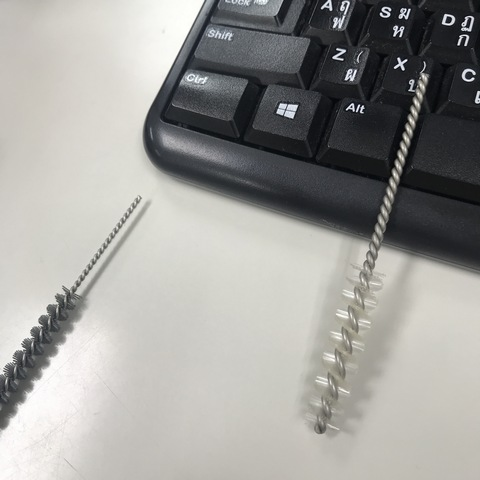Twist Brush-A: (1, 193, 150, 421)
Twist Brush-B: (298, 72, 434, 443)
